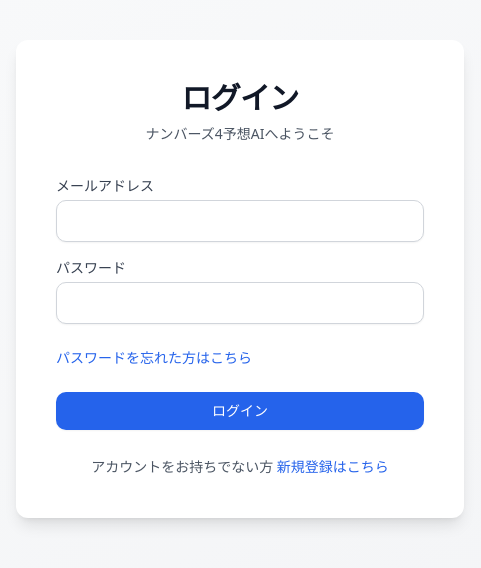
Test: LoginPage › 空のフォームで送信するとエラーが表示される
The width and height of the screenshot is (481, 568).
Click the button "ログイン". click: (240, 411)
box: [56,392,424,430]
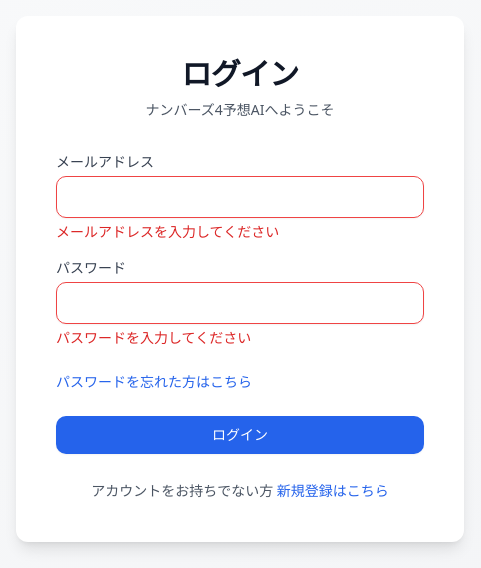
Check: the text "メールアドレスを入力してください" is shown, box [56,222,279,241]
Check: the text "パスワードを入力してください" is shown, box [56,328,251,347]
